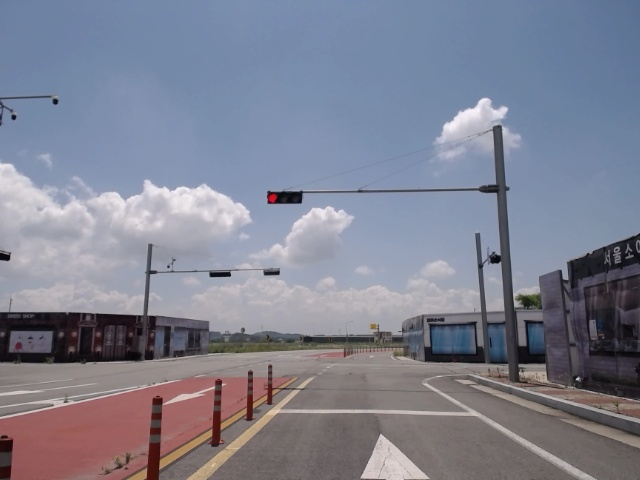red_3: (264, 189, 304, 204)
